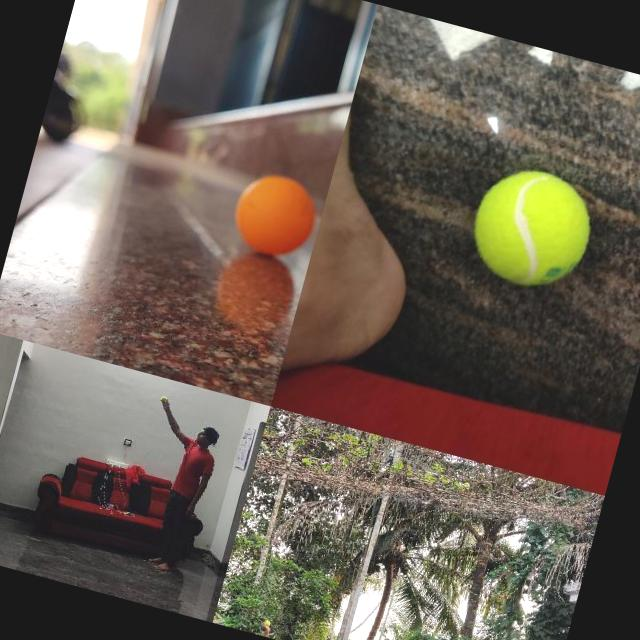tennis-ball: (461, 157, 604, 299), (160, 394, 167, 402), (264, 620, 270, 626)
